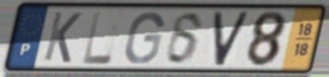6: (163, 11, 206, 66)
8: (244, 9, 289, 69)
G: (122, 11, 166, 67)
K: (41, 10, 84, 65)
L: (81, 9, 115, 67)
V: (212, 10, 252, 68)
